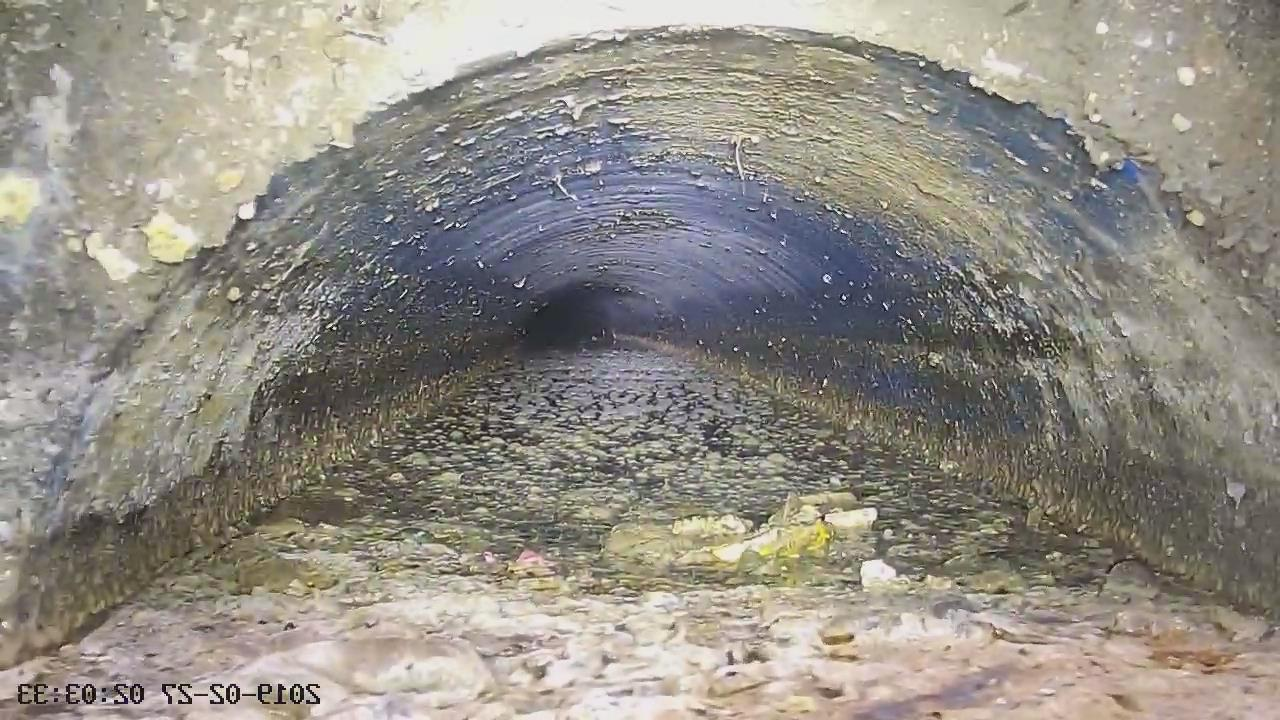FZ: (1, 349, 1280, 719)
